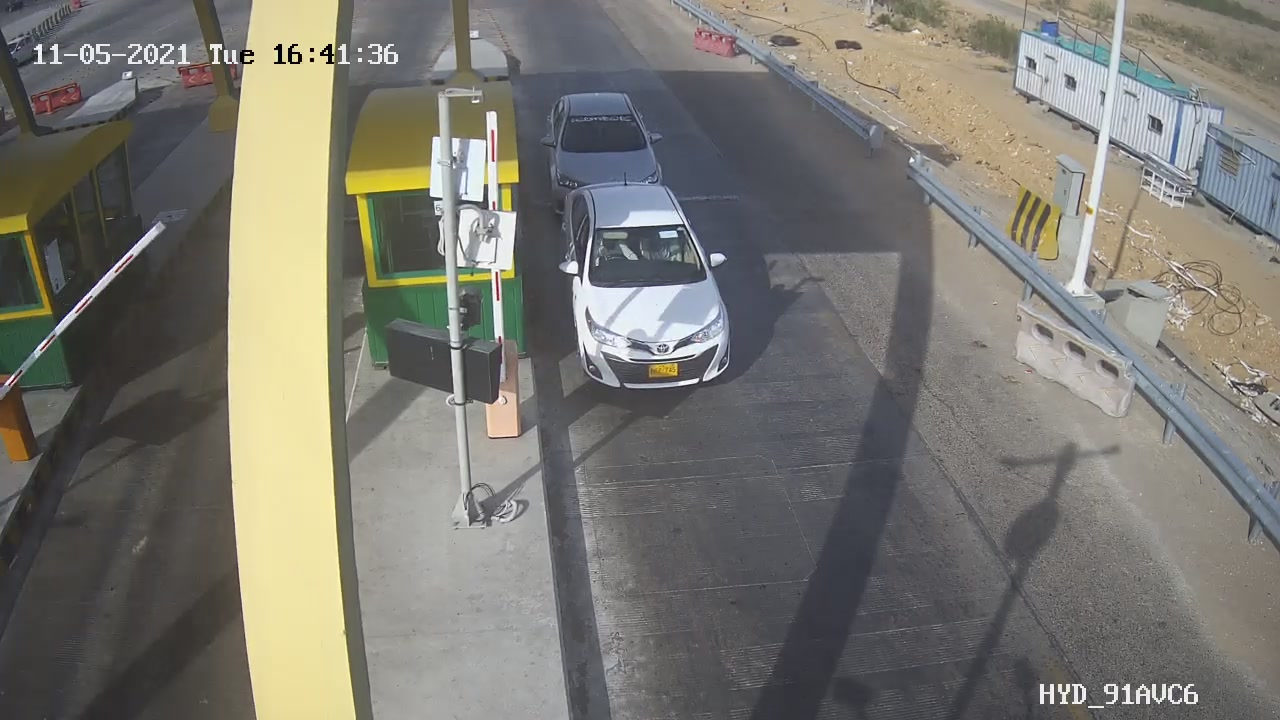F1: (540, 172, 769, 400)
